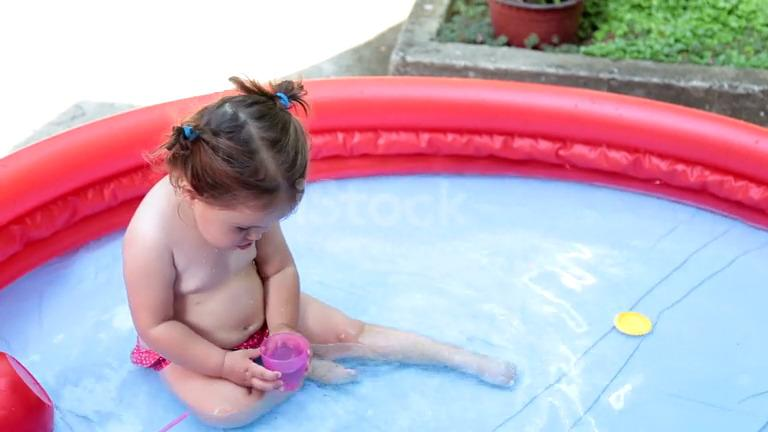Swimming: (62, 66, 576, 407)
